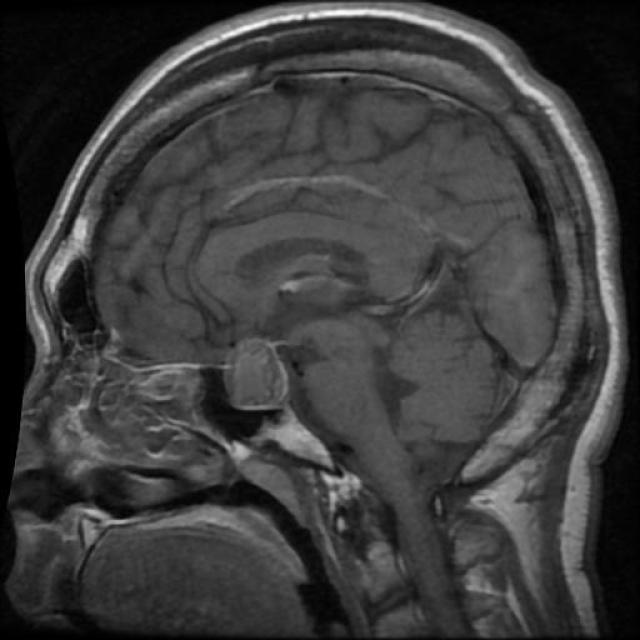pituitary: (211, 310, 307, 418)
